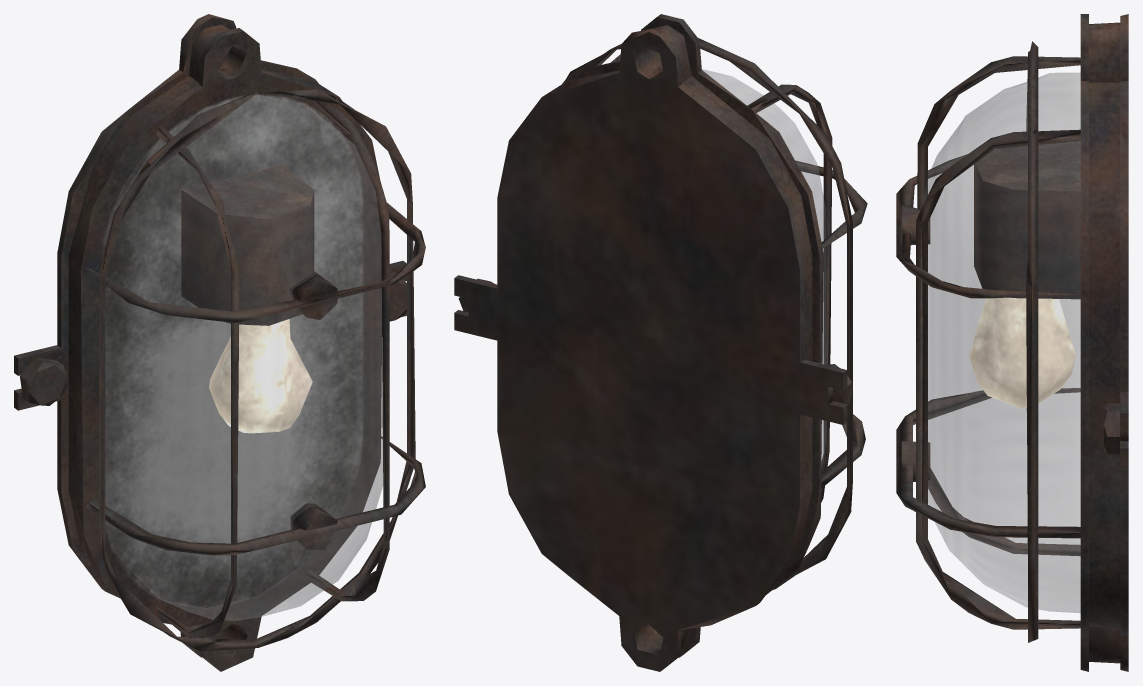
3 views of the same model, side by side, from view 1: azimuth 30°, elevation 25°; view 2: azimuth 150°, elevation 25°; view 3: azimuth 270°, elevation 25° (orthographic).
Parts seen in each view (by area): view 1: industrial_wall_lamp; view 2: industrial_wall_lamp; view 3: industrial_wall_lamp.
Part boxes in pixels (left/top/right/bottom): industrial_wall_lamp: left=14, top=14, right=425, bottom=671; industrial_wall_lamp: left=454, top=14, right=867, bottom=671; industrial_wall_lamp: left=896, top=14, right=1128, bottom=671.
Size of the model in its own units: 0.2735 by 0.4283 by 0.139.
Materials: 2 (2 with a texture image).
